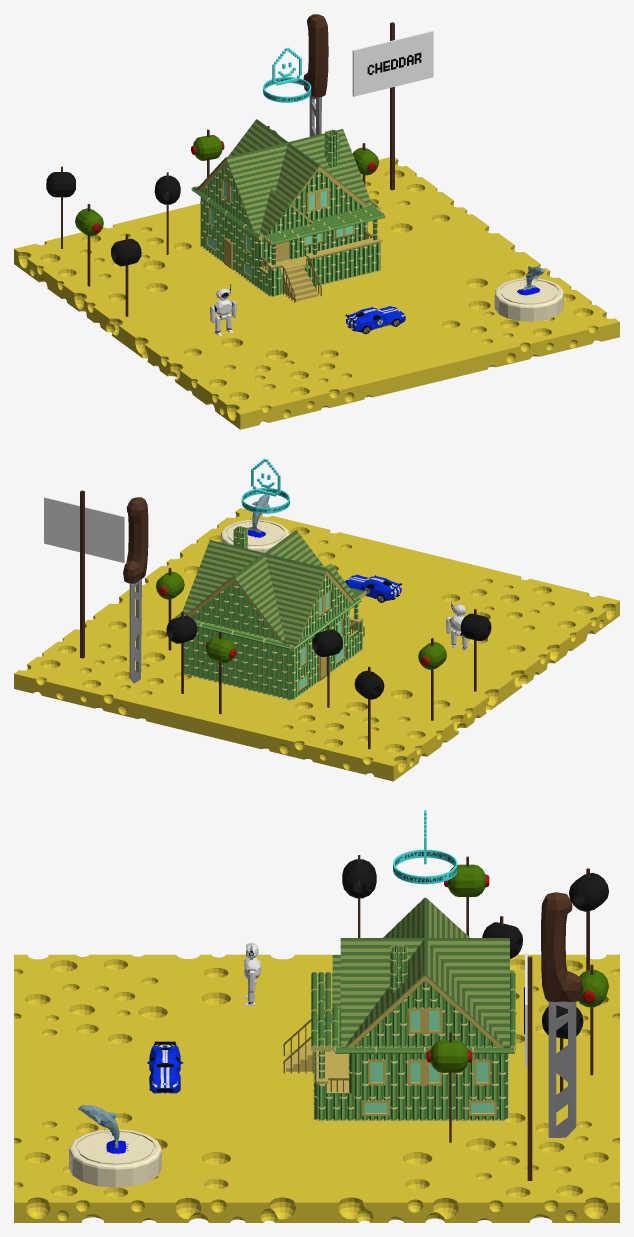
3 views of the same model, one above another, from view 1: azimuth 30°, elevation 25°; view 2: azimuth 150°, elevation 25°; view 3: azimuth 270°, elevation 25° (orthographic). The views are drawn at different scales.
Visible parts, largest first — view 1: Cube.022, Cube.1327, Cube.023, Cylinder.016, Cube.024, VEHICLES_RACING_CAR, TYPE_PREMIUM, Sphere.017, Sphere.018, OBJRANDOM_PLATZEEBOT, Sphere.016, Sphere.020 (+2 smaller); view 2: Cube.022, Cube.1327, Cube.023, Cube.024, Cylinder.016, TYPE_PREMIUM, VEHICLES_RACING_CAR, Sphere.021, Sphere.017, Sphere.020, Sphere.022, Sphere.016 (+3 smaller); view 3: Cube.022, Cube.1327, Cube.024, Cylinder.016, Cube.023, VEHICLES_RACING_CAR, Sphere.019, Sphere.016, TYPE_PREMIUM, Sphere.017, Sphere.018, Sphere.022 (+4 smaller).
Boxes of the visible parts, left/top/right/bottom form: Cube.022: left=14, top=157, right=619, bottom=429; Cube.1327: left=191, top=119, right=385, bottom=302; Cube.023: left=352, top=22, right=433, bottom=190; Cylinder.016: left=494, top=278, right=563, bottom=321; Cube.024: left=303, top=14, right=328, bottom=136; VEHICLES_RACING_CAR: left=345, top=306, right=405, bottom=334; TYPE_PREMIUM: left=263, top=47, right=311, bottom=102; Sphere.017: left=111, top=234, right=141, bottom=316; Sphere.018: left=75, top=204, right=103, bottom=286; OBJRANDOM_PLATZEEBOT: left=210, top=284, right=236, bottom=335; Sphere.016: left=46, top=166, right=75, bottom=248; Sphere.020: left=154, top=172, right=180, bottom=254; Cube.022: left=14, top=508, right=619, bottom=781; Cube.1327: left=172, top=526, right=366, bottom=700; Cube.023: left=44, top=490, right=124, bottom=658; Cube.024: left=123, top=497, right=148, bottom=683; Cylinder.016: left=220, top=519, right=289, bottom=552; TYPE_PREMIUM: left=241, top=458, right=289, bottom=513; VEHICLES_RACING_CAR: left=345, top=574, right=401, bottom=602; Sphere.021: left=166, top=611, right=197, bottom=693; Sphere.017: left=460, top=609, right=491, bottom=691; Sphere.020: left=312, top=625, right=342, bottom=707; Sphere.022: left=205, top=631, right=236, bottom=714; Sphere.016: left=354, top=666, right=384, bottom=749; Cube.022: left=14, top=954, right=619, bottom=1222; Cube.1327: left=283, top=897, right=516, bottom=1121; Cube.024: left=541, top=892, right=583, bottom=1137; Cylinder.016: left=69, top=1129, right=161, bottom=1187; Cube.023: left=524, top=953, right=532, bottom=1180; VEHICLES_RACING_CAR: left=147, top=1041, right=183, bottom=1093; Sphere.019: left=426, top=1032, right=472, bottom=1142; Sphere.016: left=569, top=868, right=608, bottom=970; TYPE_PREMIUM: left=393, top=810, right=457, bottom=884; Sphere.017: left=342, top=855, right=376, bottom=937; Sphere.018: left=444, top=856, right=489, bottom=936; Sphere.022: left=578, top=964, right=608, bottom=1075.
Bounding box in the file's own units: 3917 × 2247 × 4000.
35 materials, 6 textured.
